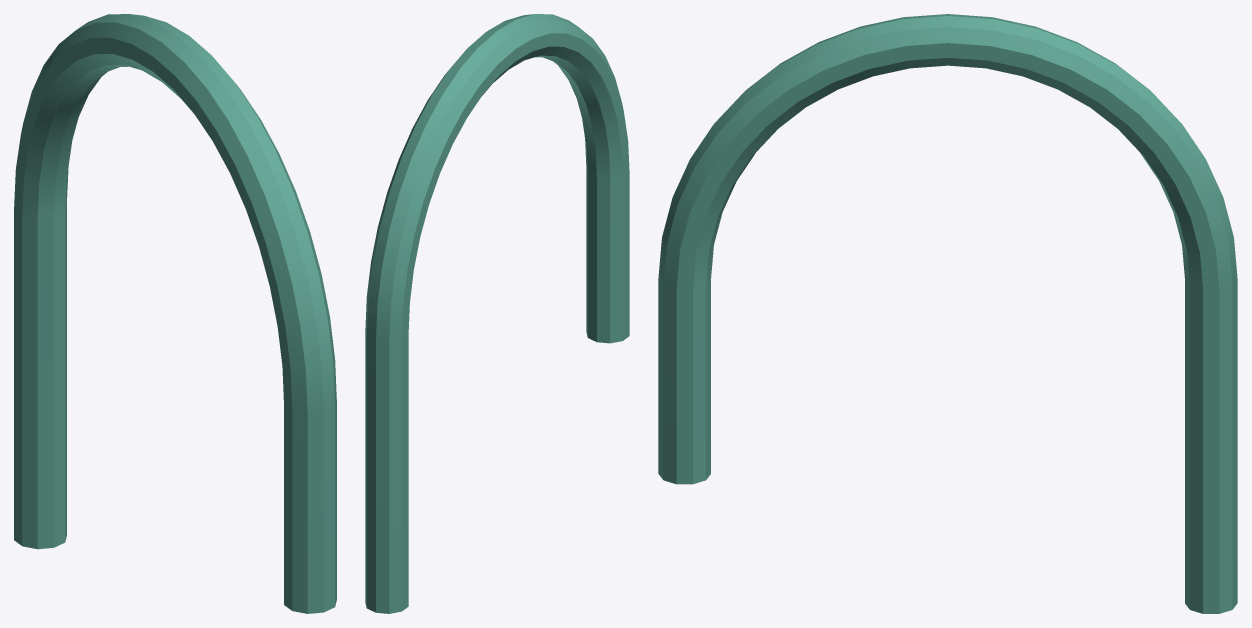
The model's file is Lock_02.fbx.
3 renders of one model, left to right at view 1: azimuth 30°, elevation 25°; view 2: azimuth 150°, elevation 25°; view 3: azimuth 270°, elevation 25°, orthographic. The views are drawn at different scales.
Visible parts, largest first — view 1: Lock_02; view 2: Lock_02; view 3: Lock_02.
Boxes of the visible parts, left/top/right/bottom form: Lock_02: left=14, top=14, right=336, bottom=613; Lock_02: left=365, top=14, right=629, bottom=613; Lock_02: left=658, top=14, right=1237, bottom=613.
Size of the model in its own units: 3.13 by 40.55 by 36.23.
